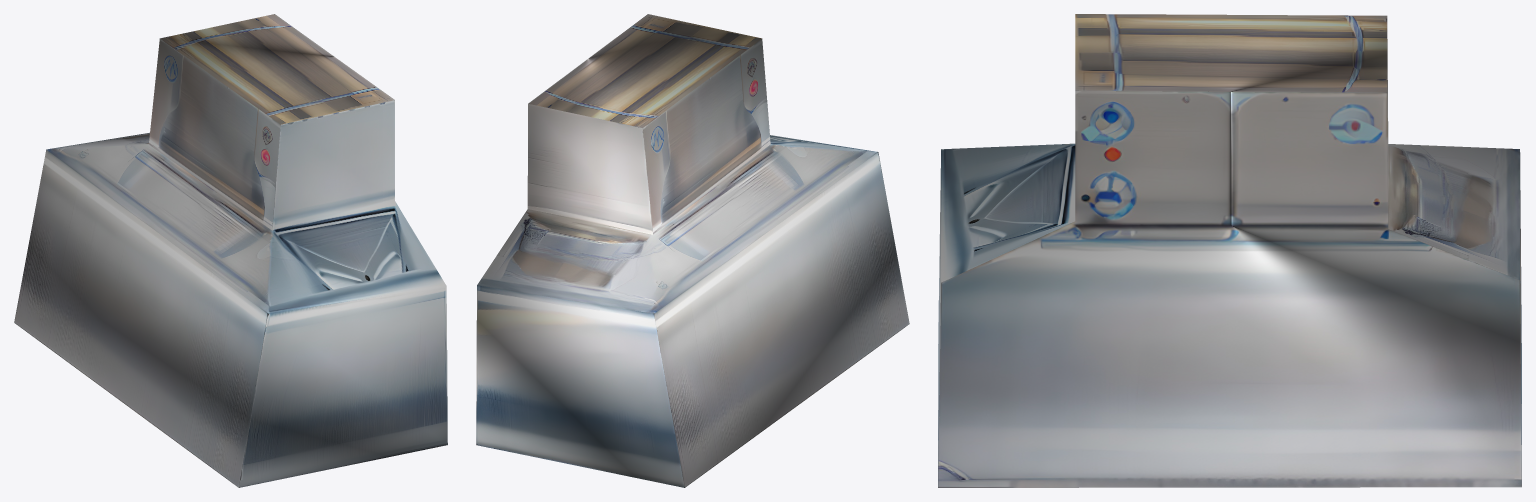
File: aspirator.glb
3 views of the same model, side by side, from view 1: azimuth 30°, elevation 25°; view 2: azimuth 150°, elevation 25°; view 3: azimuth 270°, elevation 25° (orthographic). The views are drawn at different scales.
Size of the model in its own units: 6.98 by 9.87 by 13.
1 material, 1 textured.
